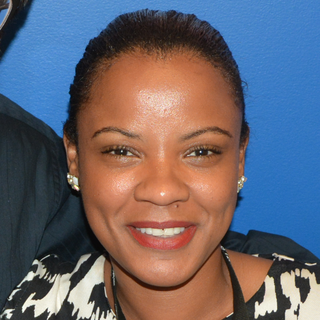eye: (180, 140, 226, 165), (97, 140, 143, 164)
